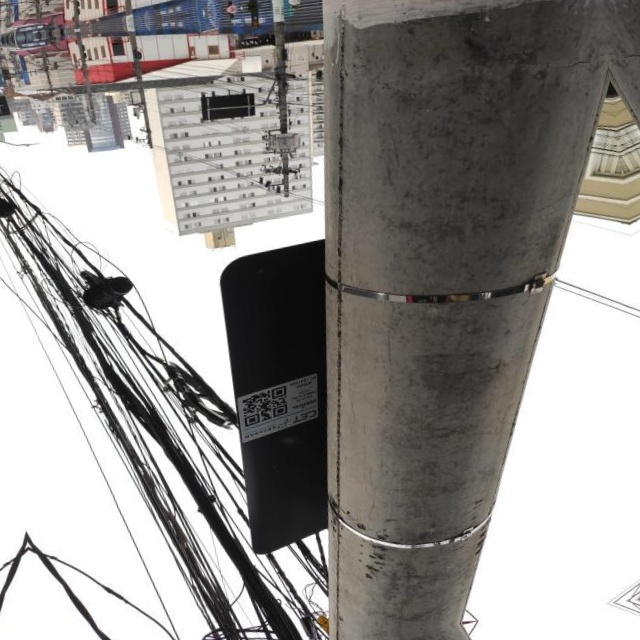qr-code: (241, 385, 290, 427)
